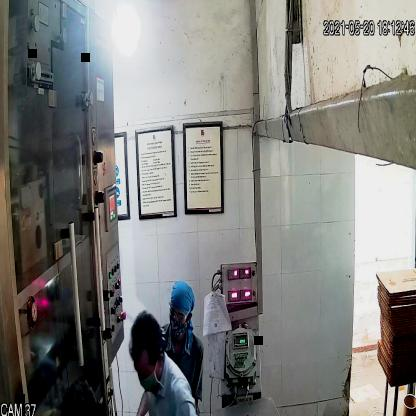goggles: (166, 304, 191, 326)
